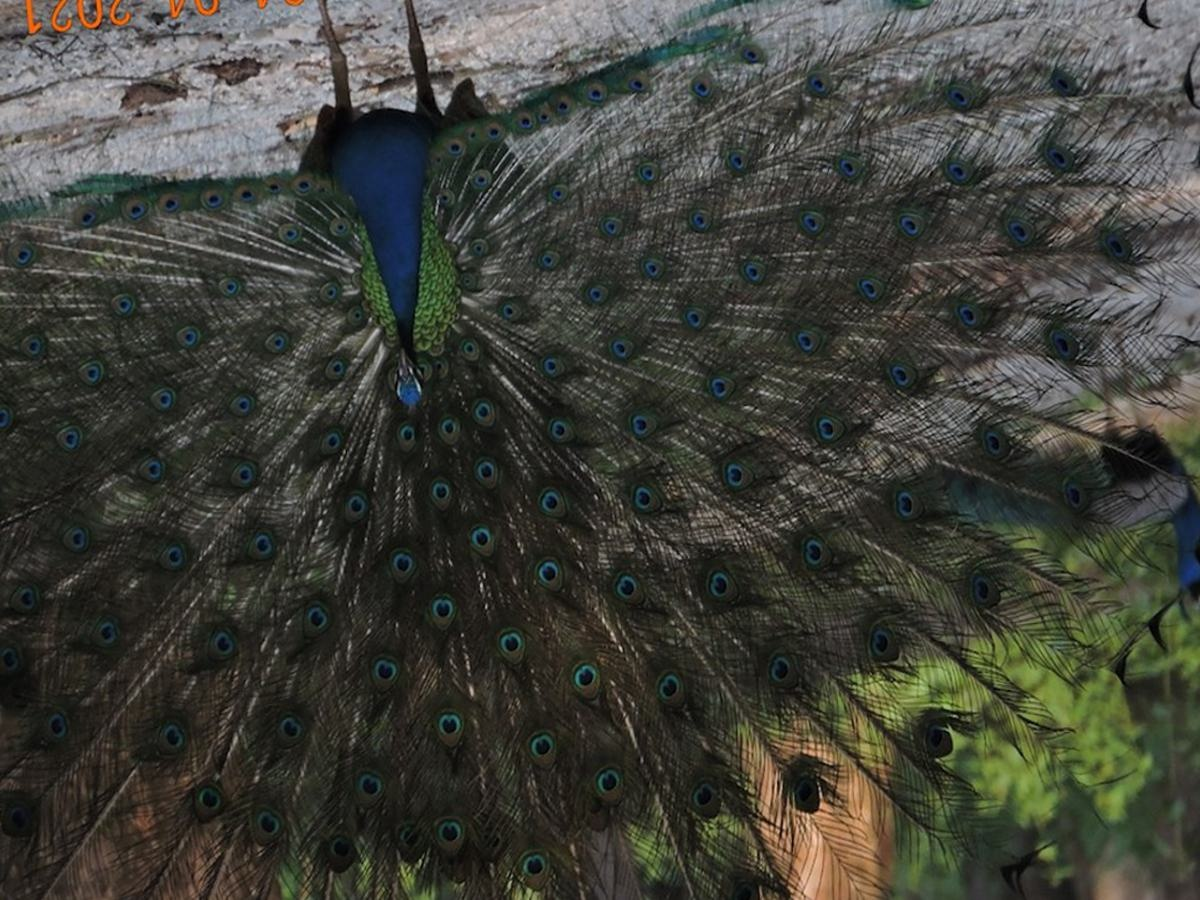peacock: (19, 113, 1167, 861)
